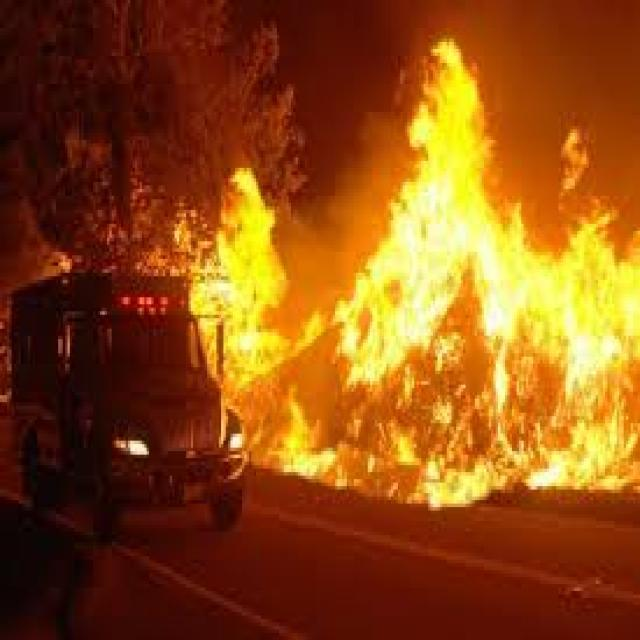Fire: (189, 47, 640, 505)
